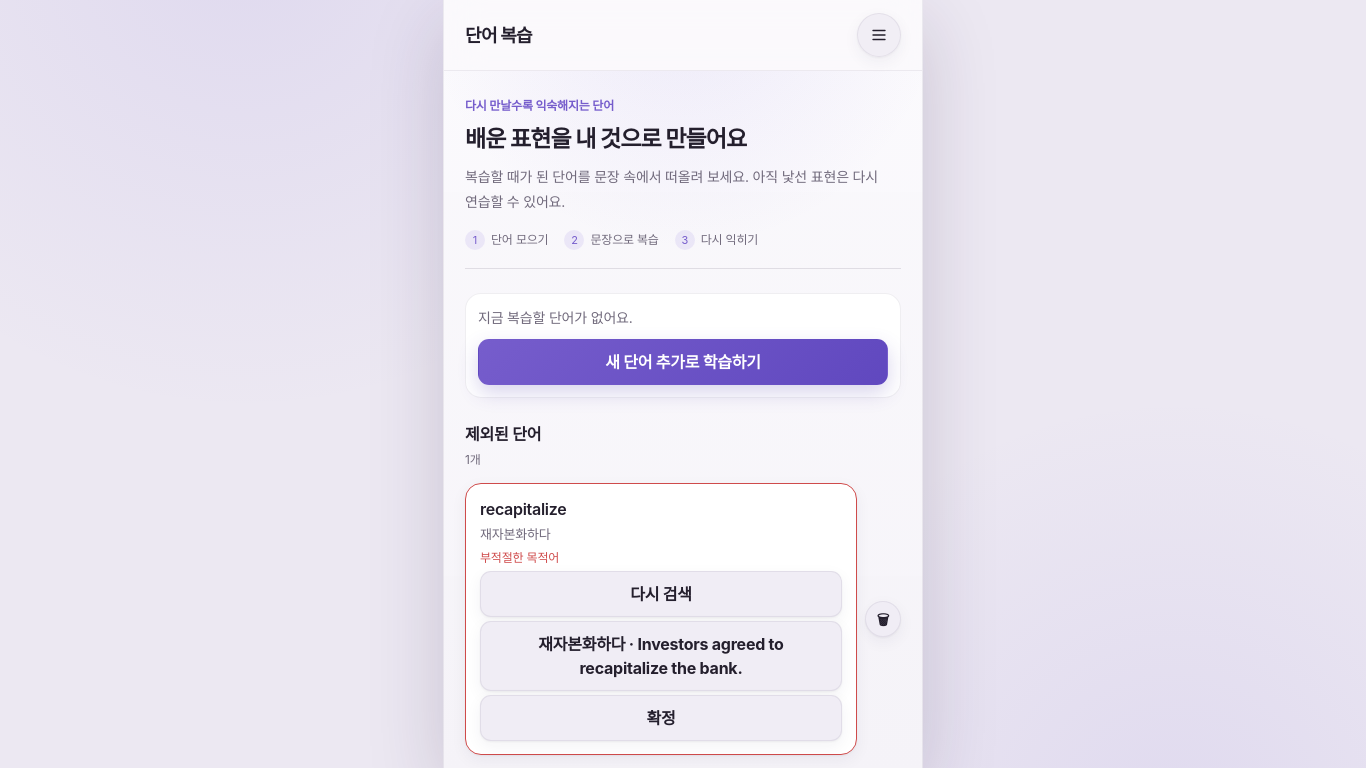
Test: validated research selection › applies the verified example to the same card without deleting it
Click the button "재자본화하다 · Investors agreed to recapitalize the bank." at (661, 656), box [480,621,842,691]
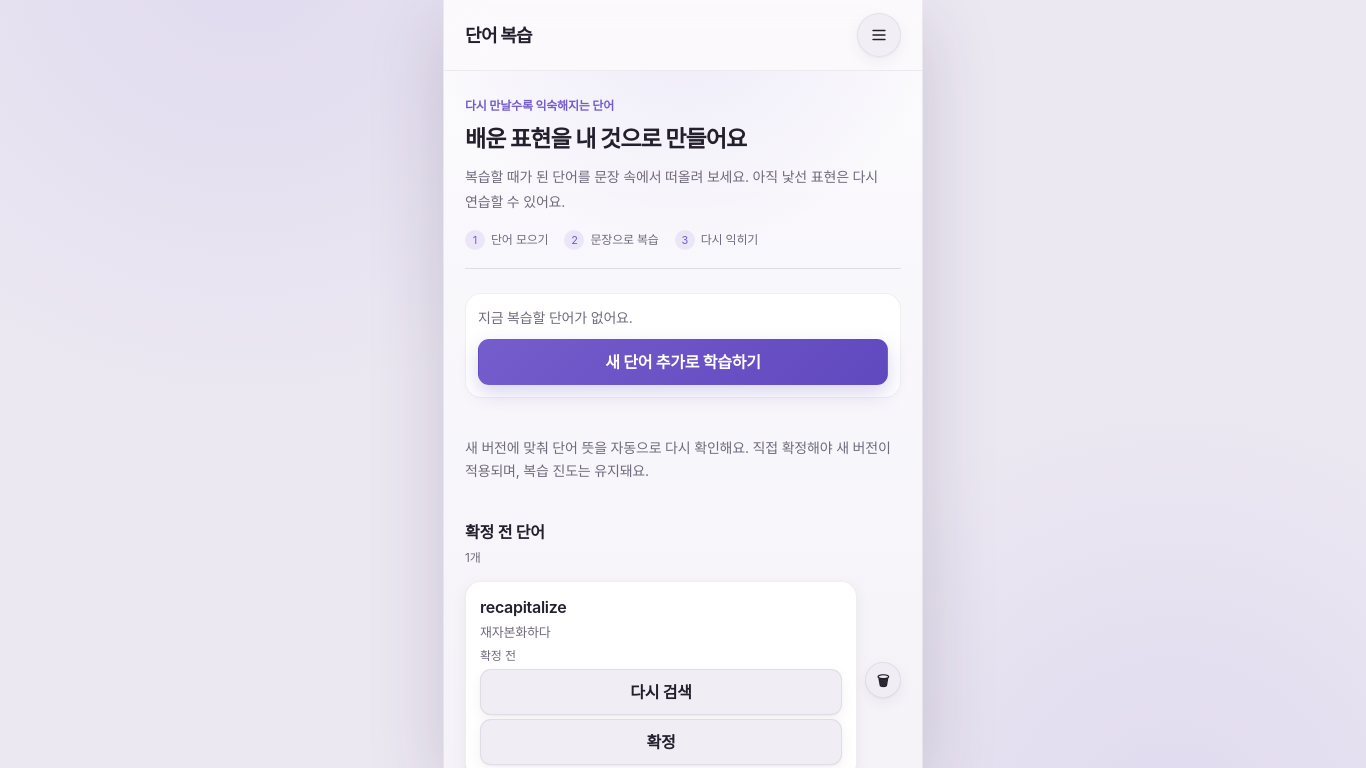
Expected: the text "recapitalize" is shown once, [480,598,566,618]
Now the heading "제외된 단어" is gone
